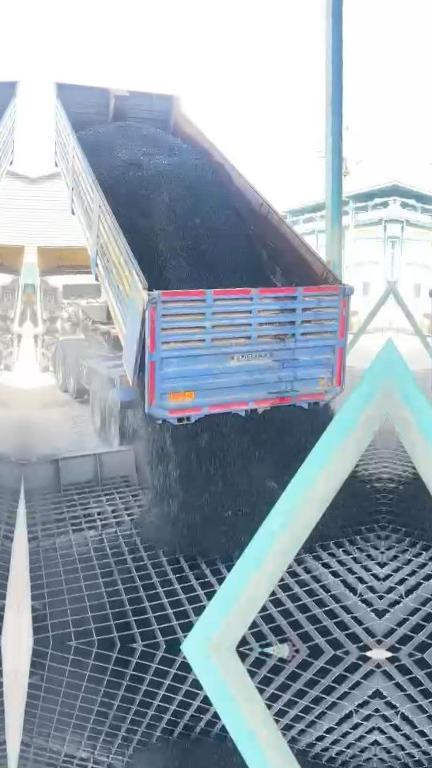gravel: (80, 123, 274, 289), (137, 405, 332, 555), (306, 477, 375, 547)
